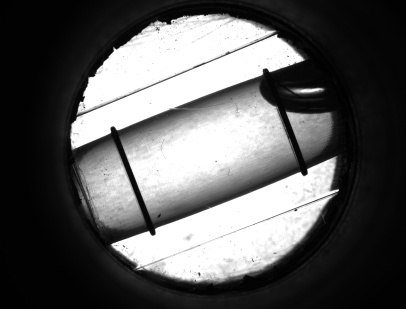line: (112, 145, 152, 214), (279, 121, 307, 155)
